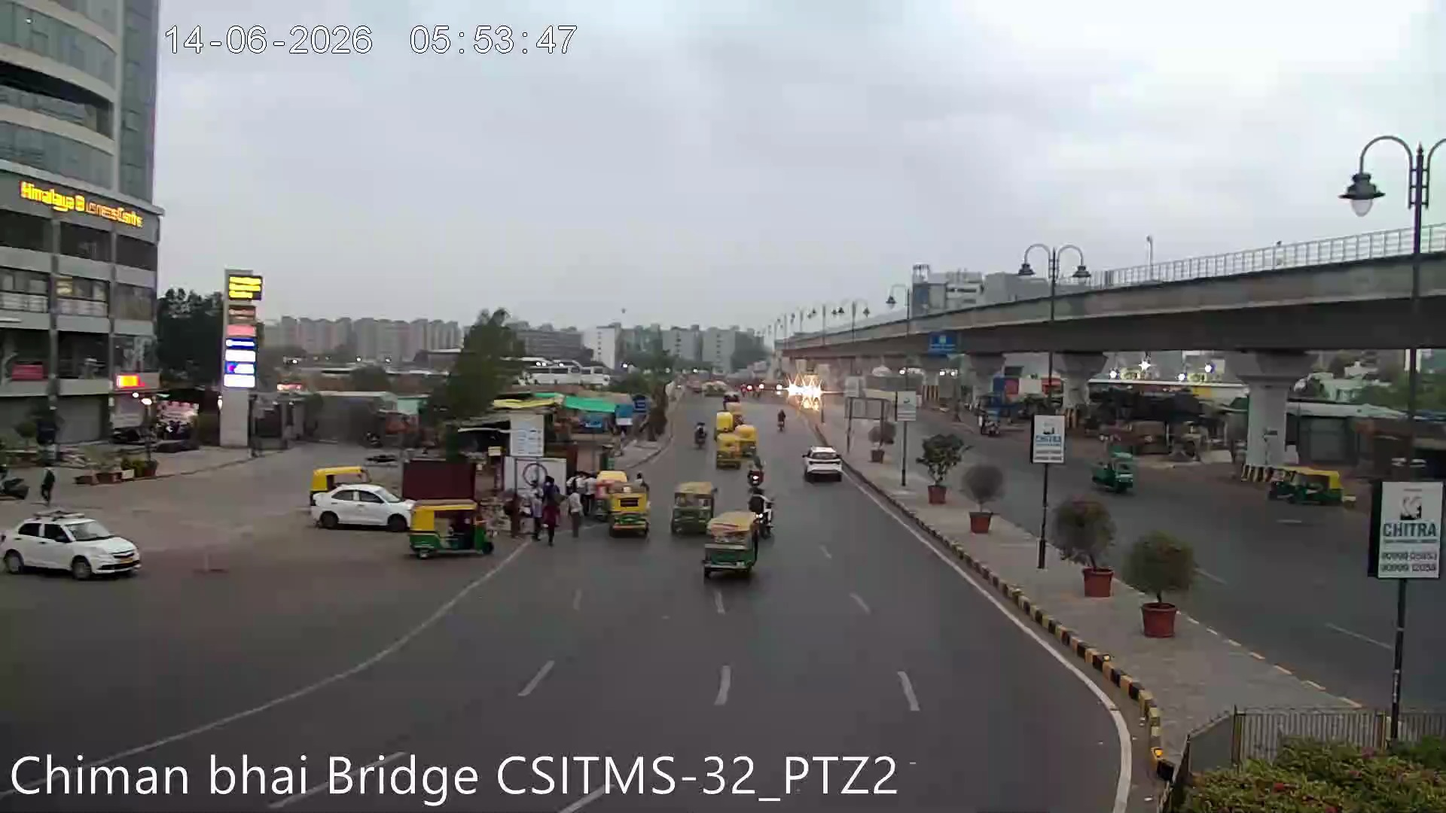auto_rickshaw: (404, 495, 494, 561), (701, 511, 759, 579), (1269, 462, 1347, 508), (669, 476, 717, 535), (1088, 446, 1139, 495), (607, 490, 651, 537), (714, 427, 760, 467), (596, 467, 633, 504)
car: (0, 503, 144, 584), (308, 477, 416, 535), (801, 442, 844, 482)
pedestrian: (541, 500, 559, 550), (569, 497, 588, 541)
